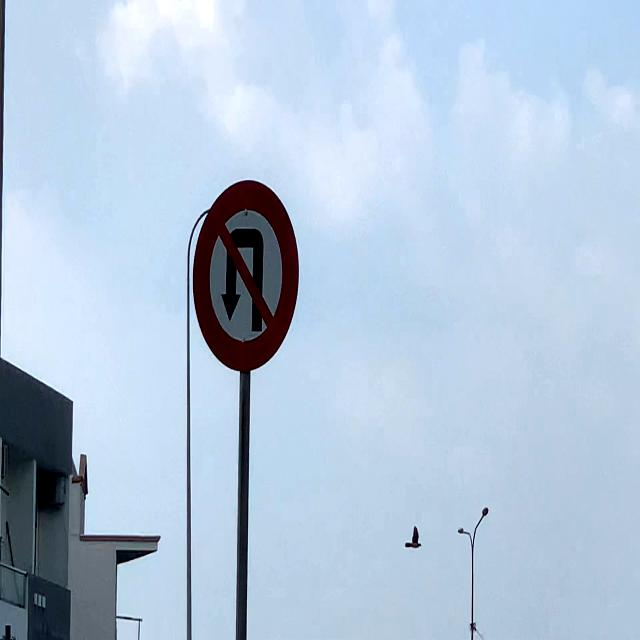P.124a: (193, 173, 298, 384)
